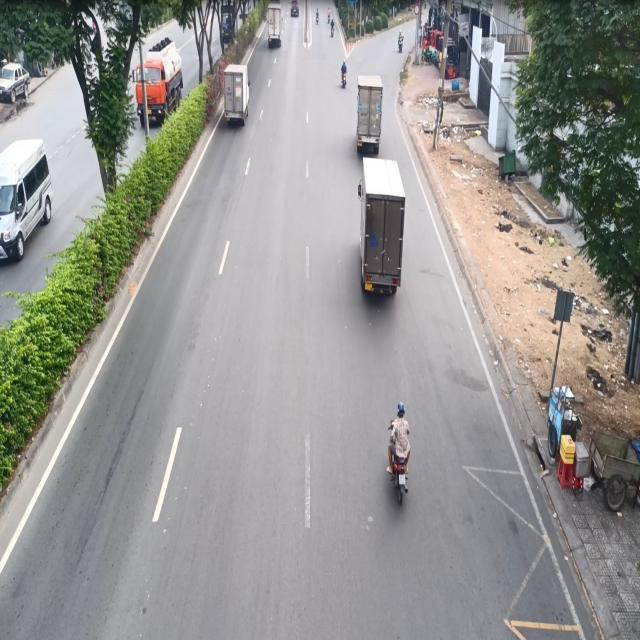car: (2, 139, 59, 263), (137, 36, 184, 127), (0, 62, 33, 107)
motorcycle: (386, 440, 410, 510), (338, 72, 347, 91)
person: (393, 398, 413, 462), (341, 59, 349, 82)
truck: (357, 159, 408, 304), (355, 74, 386, 156), (222, 66, 251, 131), (265, 3, 285, 52)
